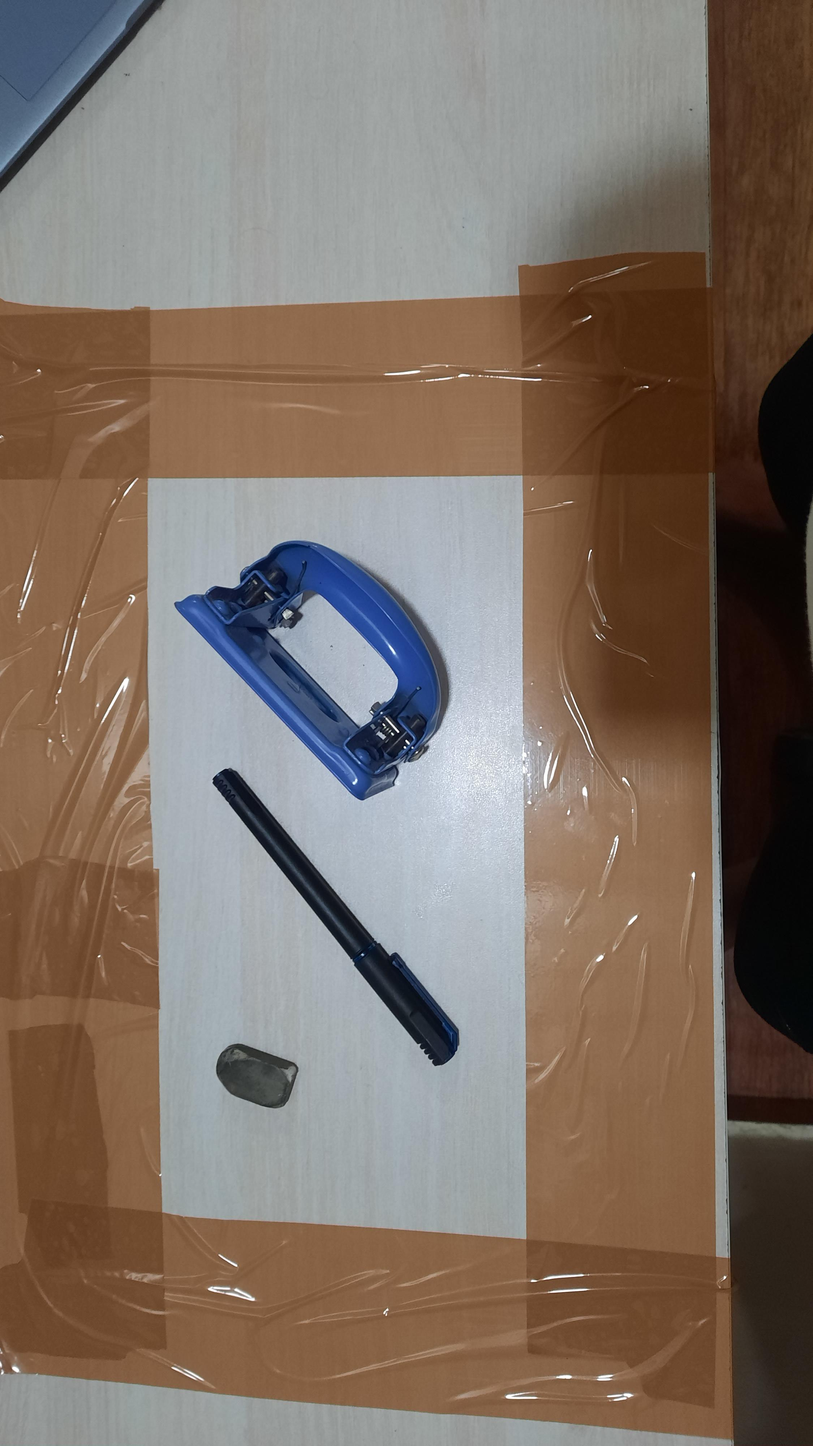Eraser: (216, 1043, 300, 1110)
Pen: (211, 768, 461, 1067)
Punch: (173, 539, 449, 801)
